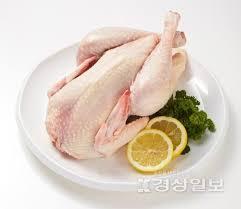chicken: (17, 3, 71, 52)
